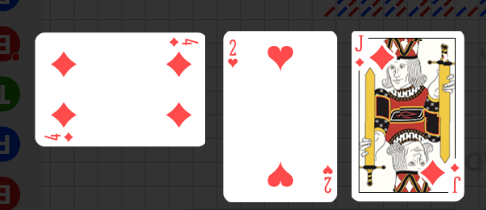2H: (227, 38, 240, 70), (321, 163, 334, 194)
4D: (44, 131, 75, 143)
